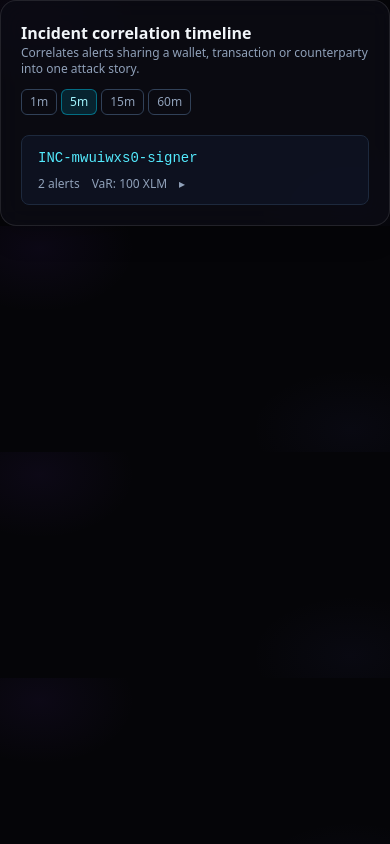
Scenario: IncidentCorrelationTimeline (#1044) › clusters alerts and expands a chronological swimlane timeline
Expected: the text "2 alerts" is shown, [38,176,80,192]
Expected: the text "VaR: 100 XLM" is shown, [92,176,167,192]
What coordinates should you click on to do the following:
click the button "INC-"
I would click on:
 (118, 158)
Its box is [21,135,369,205].
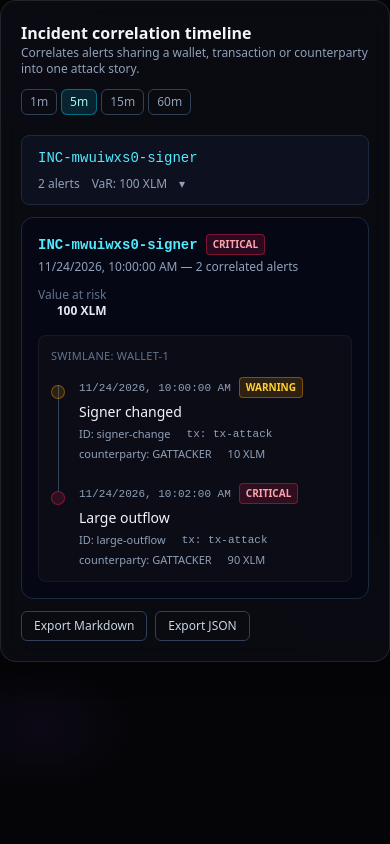
Expected: the text "Signer changed" is shown, [79,402,182,422]
Expected: the text "Large outflow" is shown, [79,508,170,528]
Expected: the text "Swimlane: wallet-1" is shown, [51,348,169,363]
